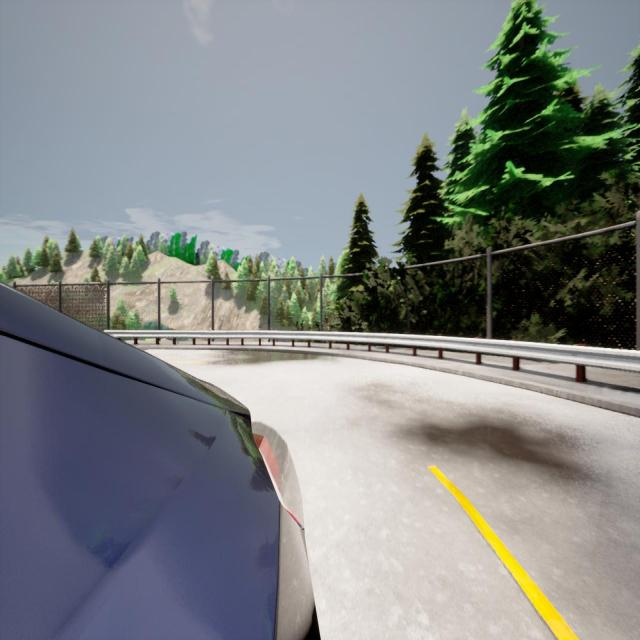Vehicle: (0, 285, 314, 638)
